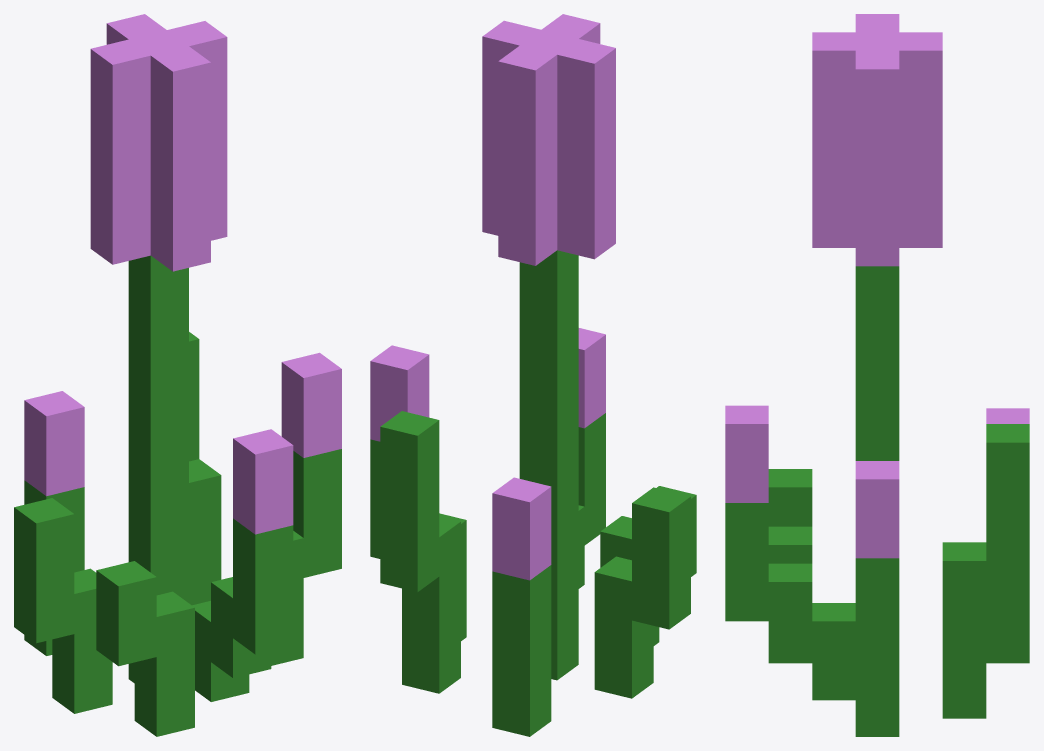
File: Flower1.obj
The picture shows the model from 3 angles, left to right: view 1: azimuth 30°, elevation 25°; view 2: azimuth 150°, elevation 25°; view 3: azimuth 270°, elevation 25°; orthographic projection. The views are drawn at different scales.
Parts seen in each view (by area): view 1: Flower1; view 2: Flower1; view 3: Flower1.
Boxes of the visible parts, left/top/right/bottom form: Flower1: left=14, top=14, right=341, bottom=736; Flower1: left=370, top=14, right=696, bottom=736; Flower1: left=725, top=14, right=1029, bottom=736.
Bounding box in the file's own units: 0.8 × 1.6 × 0.7.
1 material, 1 textured.
